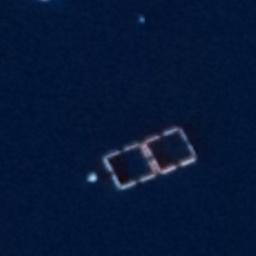square_solid: (137, 122, 204, 179), (97, 138, 164, 195)
